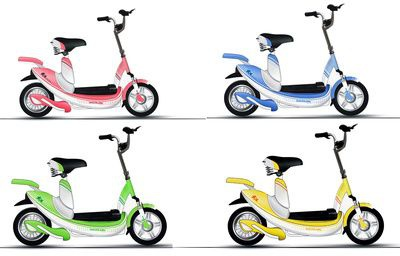non-vehicle: (229, 124, 388, 252), (9, 126, 171, 250), (223, 1, 369, 118), (15, 8, 162, 120)
